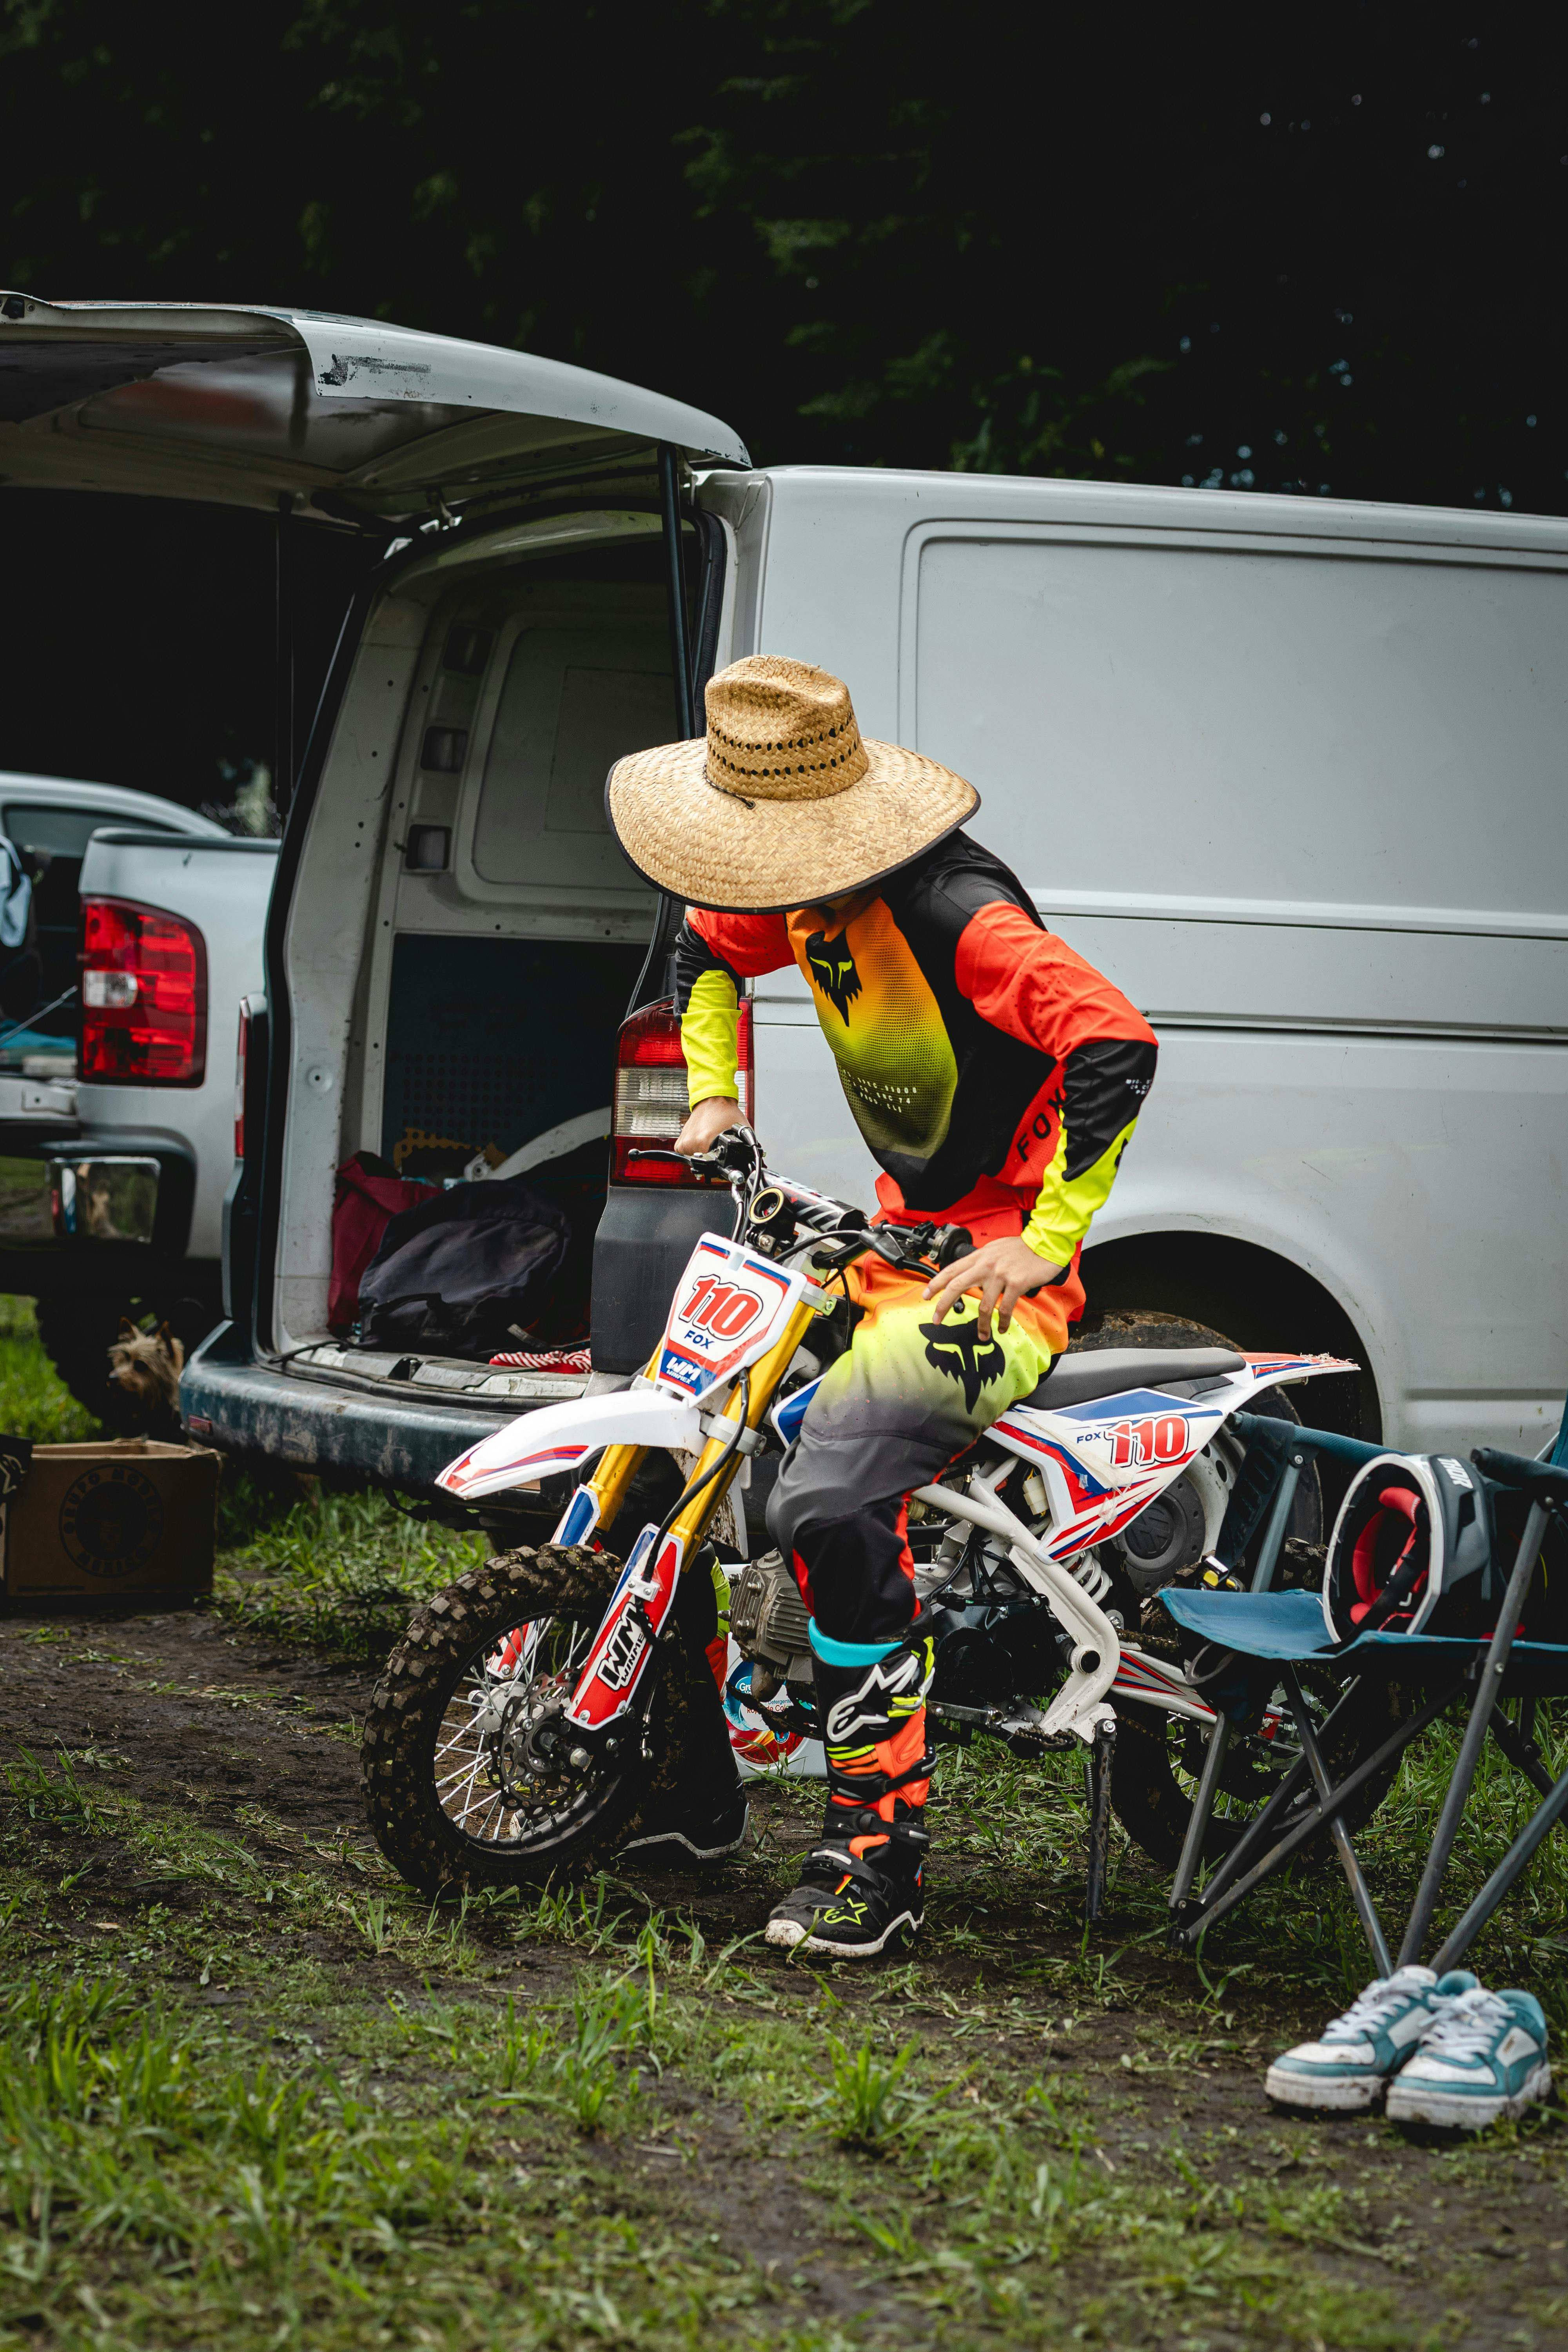capacete: (1316, 1444, 1500, 1649)
